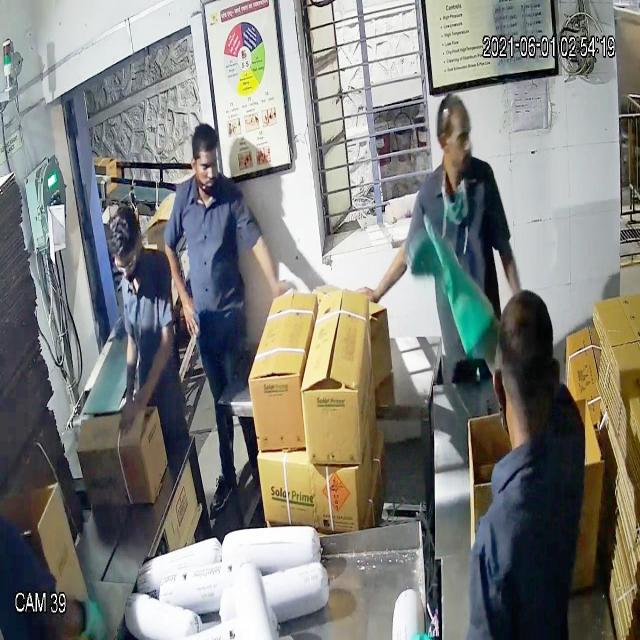glasses: (111, 242, 145, 281)
no-glass: (435, 123, 476, 158)
